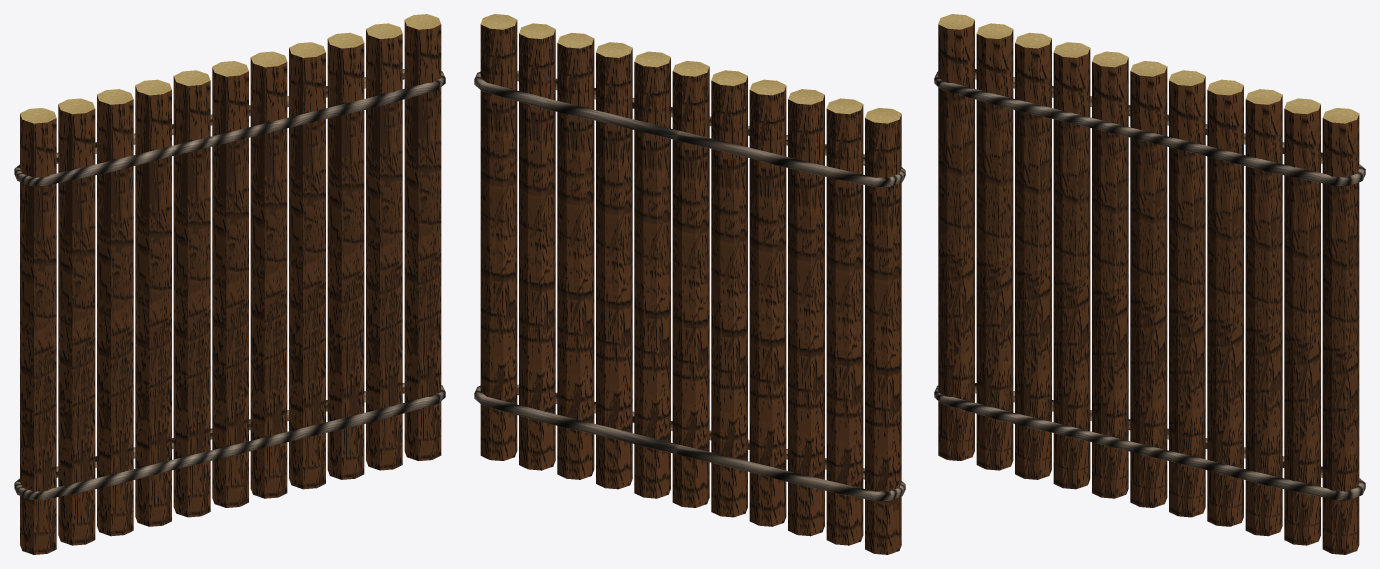
Rendered from logWall.fbx.
3 renders of one model, left to right at view 1: azimuth 30°, elevation 25°; view 2: azimuth 150°, elevation 25°; view 3: azimuth 330°, elevation 25°, orthographic.
Parts seen in each view (by area): view 1: log10, log1, log4, log6, log8, log, log5, log7, log3, log9, log2, rope1 (+1 smaller); view 2: log5, log1, log10, log3, log8, log, log4, log6, log7, log9, log2, rope1 (+1 smaller); view 3: log10, log5, log3, log1, log8, log, log4, log9, log6, log7, log2, rope1 (+1 smaller).
Boxes of the visible parts, <box> form: log10: <box>404,14,441,460</box>; log1: <box>58,98,95,545</box>; log4: <box>173,70,210,517</box>; log6: <box>250,51,287,498</box>; log8: <box>327,32,364,479</box>; log: <box>20,108,56,554</box>; log5: <box>212,61,248,507</box>; log7: <box>289,42,325,489</box>; log3: <box>135,79,171,526</box>; log9: <box>366,23,402,470</box>; log2: <box>97,89,133,536</box>; rope1: <box>14,383,445,499</box>; log5: <box>672,61,709,507</box>; log1: <box>826,98,863,545</box>; log10: <box>480,14,517,460</box>; log3: <box>749,79,786,526</box>; log8: <box>557,32,594,479</box>; log: <box>865,108,901,554</box>; log4: <box>711,70,747,517</box>; log6: <box>634,51,670,498</box>; log7: <box>596,42,632,489</box>; log9: <box>519,23,555,470</box>; log2: <box>788,89,824,536</box>; rope1: <box>474,384,905,501</box>; log10: <box>1322,108,1359,554</box>; log5: <box>1130,61,1167,507</box>; log3: <box>1053,42,1090,489</box>; log1: <box>976,23,1013,470</box>; log8: <box>1245,89,1282,536</box>; log: <box>938,14,974,460</box>; log4: <box>1092,51,1128,498</box>; log9: <box>1284,98,1320,545</box>; log6: <box>1169,70,1205,517</box>; log7: <box>1207,79,1243,526</box>; log2: <box>1015,32,1051,479</box>; rope1: <box>934,383,1365,499</box>.
Size of the model in its own units: 3.32 by 3.22 by 0.3822.
